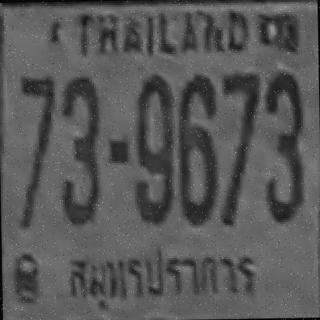N00: (177, 124, 216, 222), (135, 74, 171, 162), (262, 70, 301, 145)
N07: (19, 75, 56, 156), (221, 71, 260, 146), (221, 70, 260, 139)
P57: (53, 236, 265, 318)
